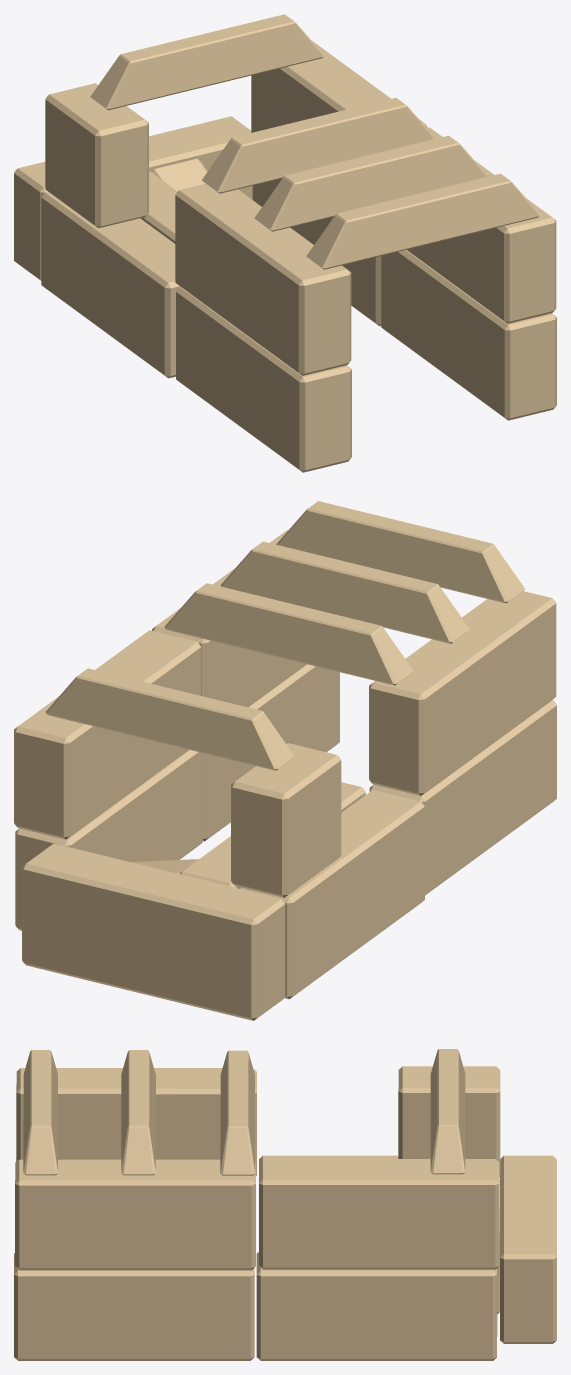
The model's file is COTR_4_d.glb.
3 renders of one model, top to bottom at view 1: azimuth 30°, elevation 25°; view 2: azimuth 150°, elevation 25°; view 3: azimuth 270°, elevation 25°, orthographic. The views are drawn at different scales.
Visible parts, largest first — view 1: CUBE_LON.036, CUBE_SMOL.023, CUBE_LON.031, CUBE_ROOF.010, CUBE_ROOF.013, CUBE_ROOF.012, CUBE_ROOF.011, CUBE_LON.032; view 2: CUBE_SMOL.023, CUBE_LON.036, CUBE_LON.032, CUBE_LON.031, CUBE_ROOF.012, CUBE_ROOF.013, CUBE_ROOF.011, CUBE_ROOF.010; view 3: CUBE_LON.032, CUBE_LON.031, CUBE_SMOL.023, CUBE_LON.036, CUBE_ROOF.013, CUBE_ROOF.011, CUBE_ROOF.010, CUBE_ROOF.012.
Boxes of the visible parts, bbox=[...] form: CUBE_LON.036: bbox=[175, 183, 351, 472]; CUBE_SMOL.023: bbox=[14, 83, 252, 378]; CUBE_LON.031: bbox=[381, 127, 556, 420]; CUBE_ROOF.010: bbox=[306, 173, 540, 269]; CUBE_ROOF.013: bbox=[90, 14, 324, 110]; CUBE_ROOF.012: bbox=[202, 97, 435, 193]; CUBE_ROOF.011: bbox=[254, 135, 488, 231]; CUBE_LON.032: bbox=[251, 41, 426, 326]; CUBE_SMOL.023: bbox=[22, 743, 424, 1020]; CUBE_LON.036: bbox=[369, 591, 556, 895]; CUBE_LON.032: bbox=[14, 630, 202, 930]; CUBE_LON.031: bbox=[152, 530, 339, 841]; CUBE_ROOF.012: bbox=[164, 583, 413, 685]; CUBE_ROOF.013: bbox=[45, 668, 294, 770]; CUBE_ROOF.011: bbox=[220, 541, 469, 643]; CUBE_ROOF.010: bbox=[276, 501, 525, 603]; CUBE_LON.032: bbox=[256, 1159, 499, 1360]; CUBE_LON.031: bbox=[14, 1159, 255, 1360]; CUBE_SMOL.023: bbox=[259, 1066, 556, 1343]; CUBE_LON.036: bbox=[15, 1068, 256, 1265]; CUBE_ROOF.013: bbox=[430, 1049, 465, 1174]; CUBE_ROOF.011: bbox=[121, 1050, 155, 1175]; CUBE_ROOF.010: bbox=[23, 1050, 57, 1175]; CUBE_ROOF.012: bbox=[220, 1050, 254, 1175].
Bounding box in the file's own units: 12.24 × 10.53 × 23.29.
